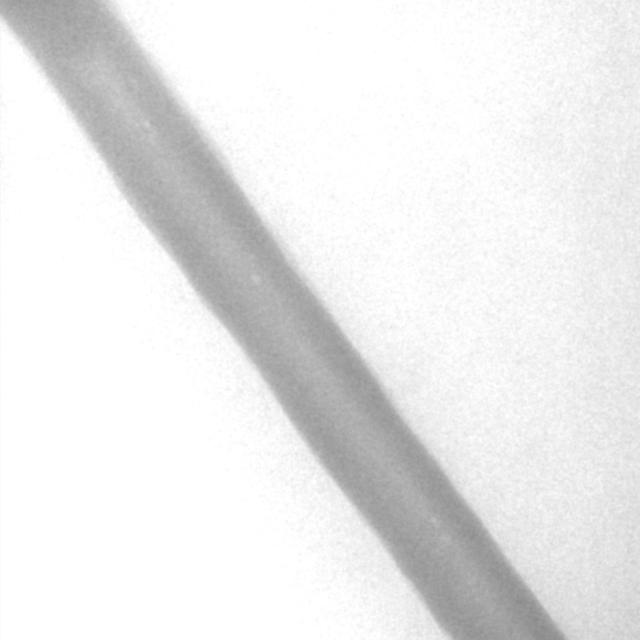air hole: (140, 115, 153, 133), (247, 271, 261, 287)
